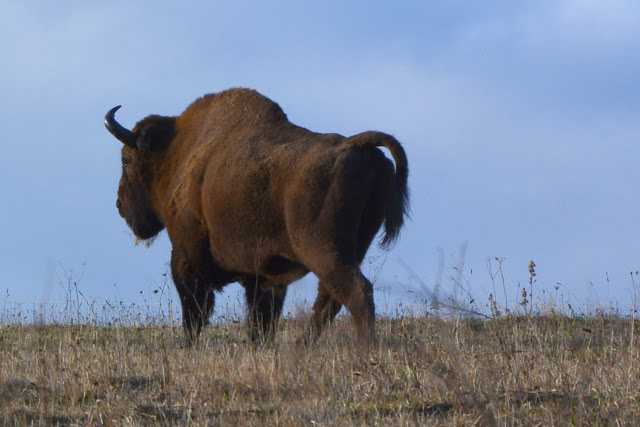zubr: (88, 56, 450, 372)
